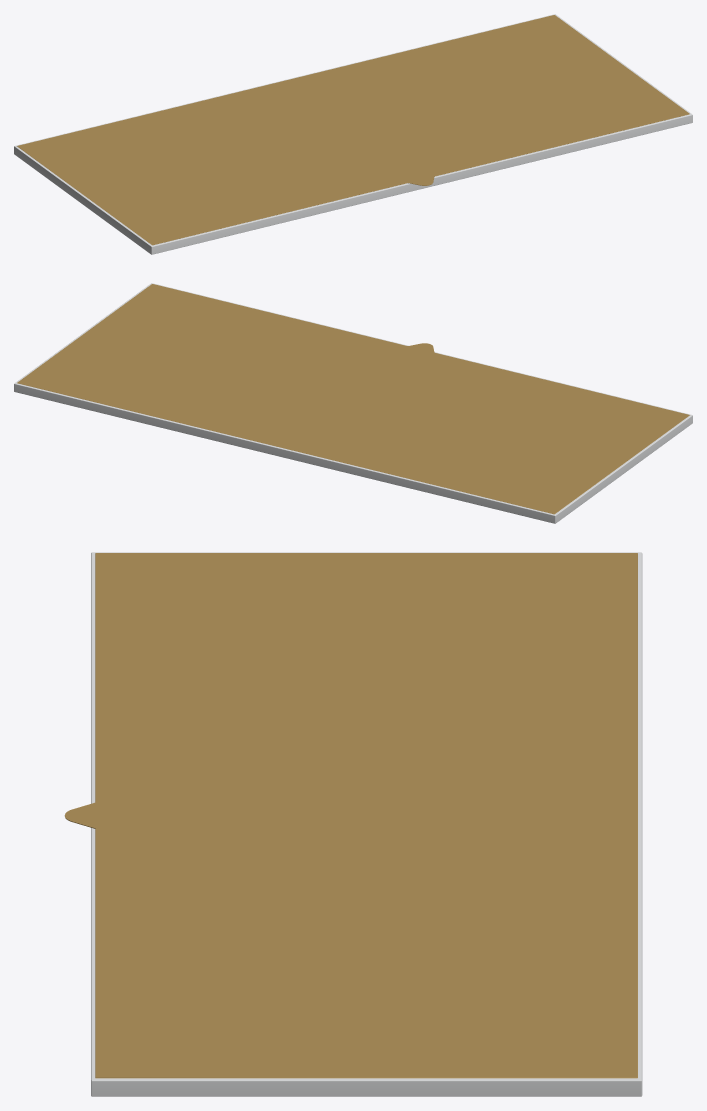
The model's file is print-bed.glb.
3 views of the same model, one above another, from view 1: azimuth 30°, elevation 25°; view 2: azimuth 150°, elevation 25°; view 3: azimuth 270°, elevation 25° (orthographic). The views are drawn at different scales.
Visible parts, largest first — view 1: print_bed; view 2: print_bed; view 3: print_bed.
Boxes of the visible parts, x1,y1,x2,y2 form: print_bed: [14, 14, 692, 254]; print_bed: [14, 283, 692, 523]; print_bed: [64, 552, 642, 1096].
Size of the model in its own units: 572 by 8.8 by 264.
